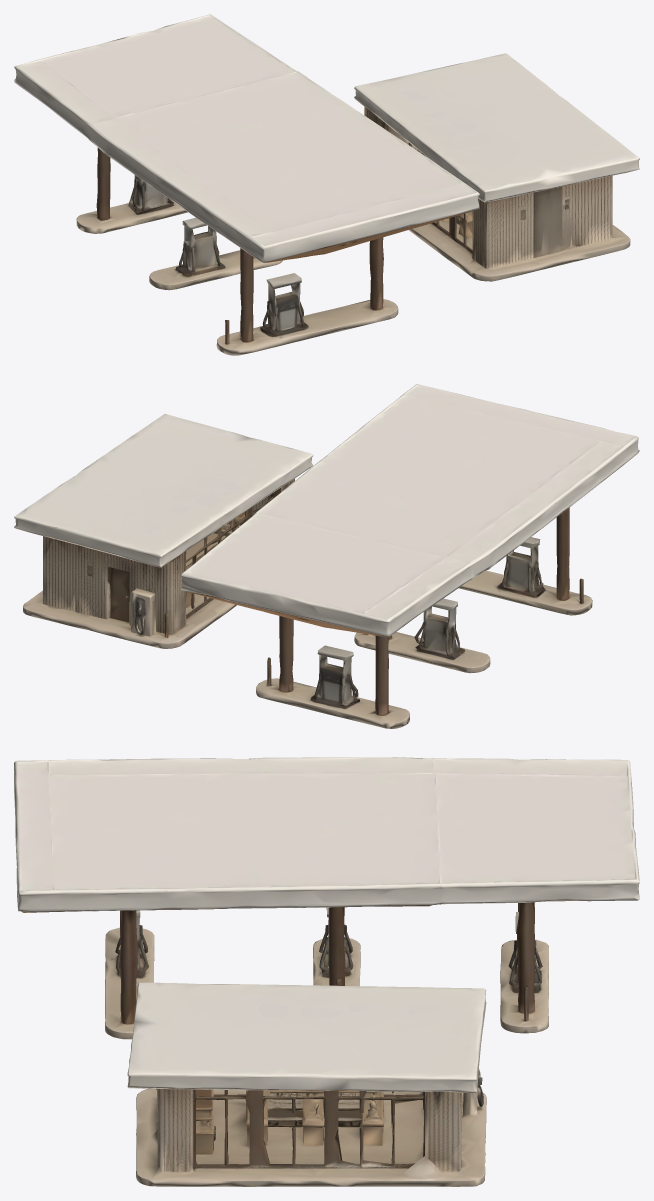
Rendered from fuel-station.glb.
3 renders of one model, top to bottom at view 1: azimuth 30°, elevation 25°; view 2: azimuth 150°, elevation 25°; view 3: azimuth 270°, elevation 25°, orthographic. The views are drawn at different scales.
Visible parts, largest first — view 1: tripo_node_5bd3a26c-caf0-4583-800d-5984aaf18140; view 2: tripo_node_5bd3a26c-caf0-4583-800d-5984aaf18140; view 3: tripo_node_5bd3a26c-caf0-4583-800d-5984aaf18140.
Boxes of the visible parts, x1=… form: tripo_node_5bd3a26c-caf0-4583-800d-5984aaf18140: x1=14, y1=14, x2=639, y2=355; tripo_node_5bd3a26c-caf0-4583-800d-5984aaf18140: x1=14, y1=384, x2=639, y2=728; tripo_node_5bd3a26c-caf0-4583-800d-5984aaf18140: x1=14, y1=757, x2=639, y2=1186.
Size of the model in its own units: 0.9979 by 0.3043 by 1.
1 material, 1 textured.
